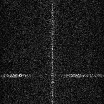wifi: (1, 74, 104, 77)
